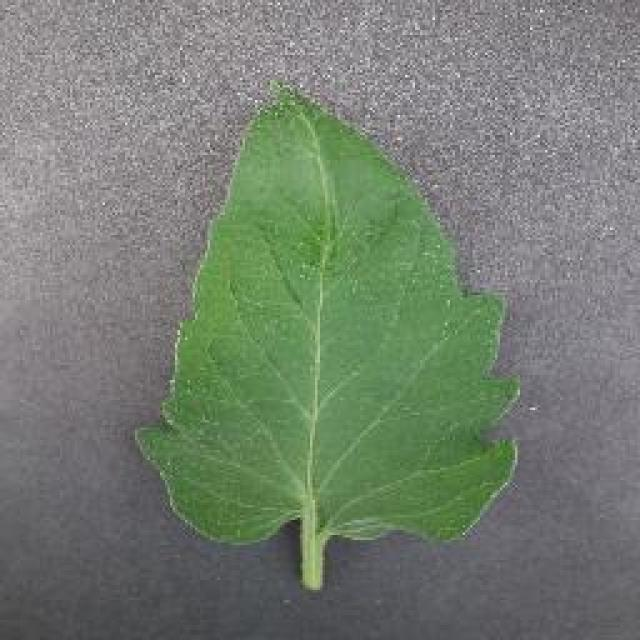Tomato_Healthy: (120, 80, 527, 554)
